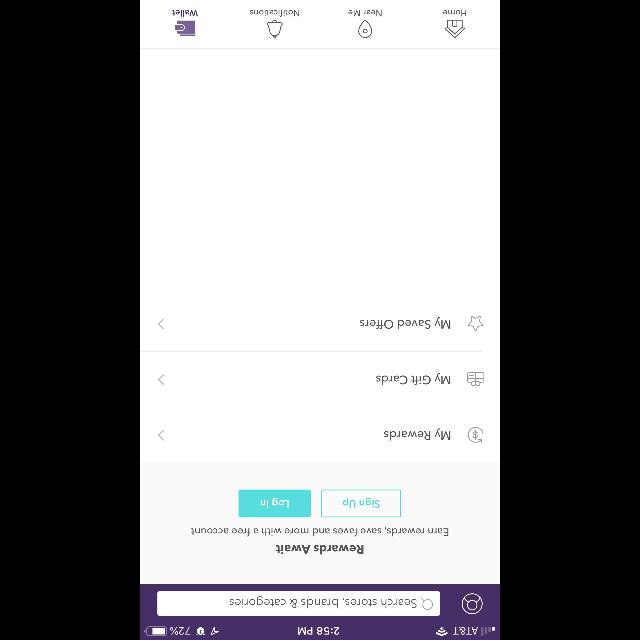icon: (462, 592, 482, 614), (444, 20, 464, 38), (176, 22, 196, 36), (466, 372, 484, 386), (358, 20, 372, 38), (268, 20, 282, 38), (468, 428, 484, 442), (468, 316, 482, 330), (421, 598, 433, 610), (158, 318, 164, 329), (158, 374, 164, 384), (158, 430, 164, 440)
input: (158, 591, 440, 615)
text: (229, 596, 416, 608), (192, 528, 448, 536), (360, 317, 450, 329), (376, 373, 450, 385), (384, 428, 450, 440), (276, 546, 364, 554), (250, 10, 298, 16), (348, 10, 382, 16), (172, 10, 198, 16), (442, 10, 466, 16)
textbutton: (321, 489, 401, 517), (238, 489, 310, 517)
uppertaskbar: (140, 626, 500, 640)
